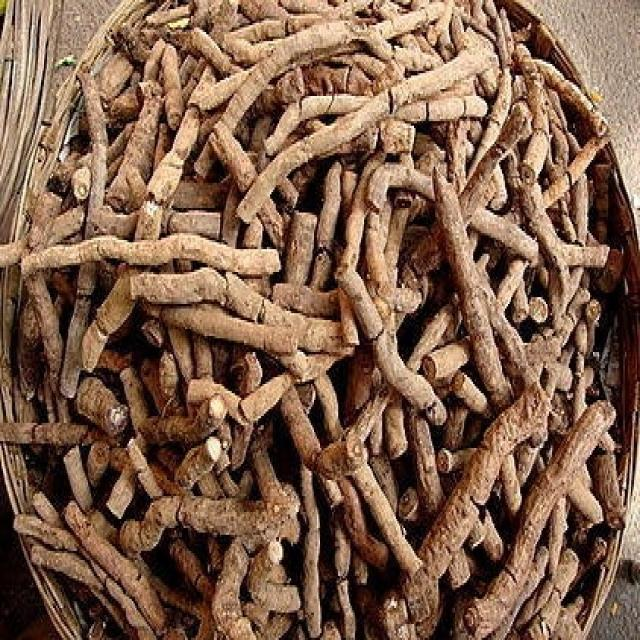Anantamul: (78, 7, 640, 640)
